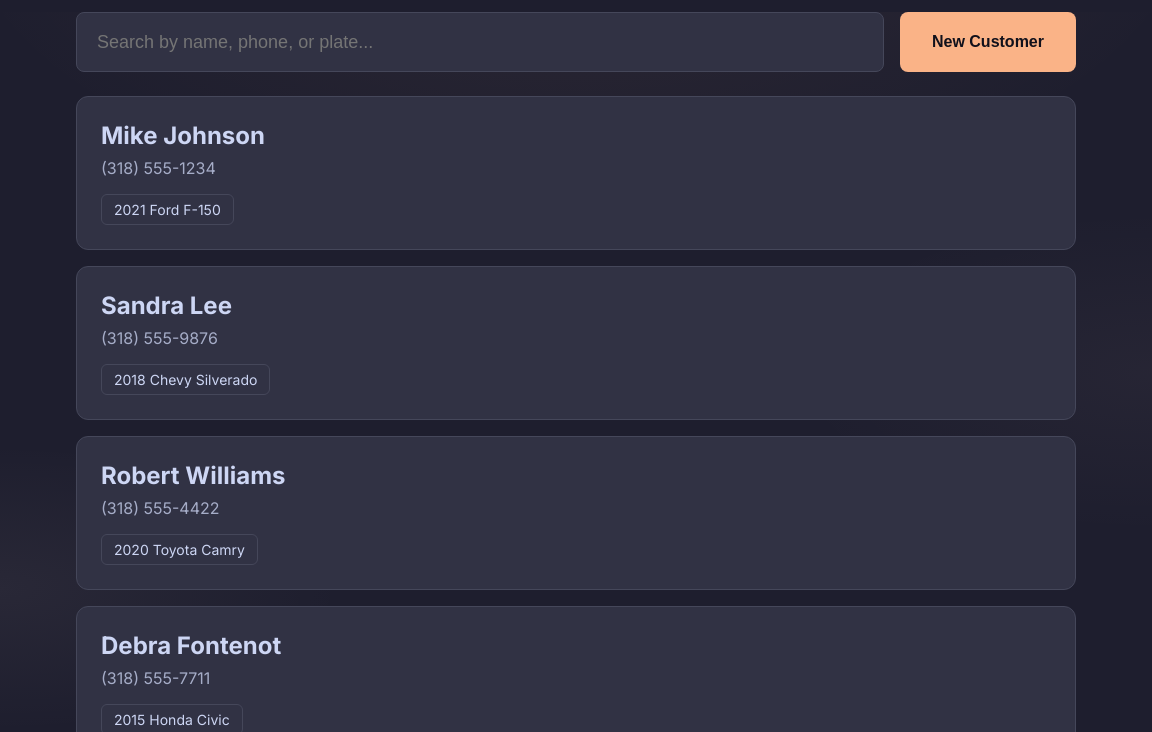
CheckInScreen › New Customer button opens the form
This screenshot has width=1152, height=732.
Click the button "New Customer": coordinates (988, 42) [900,12,1076,72]
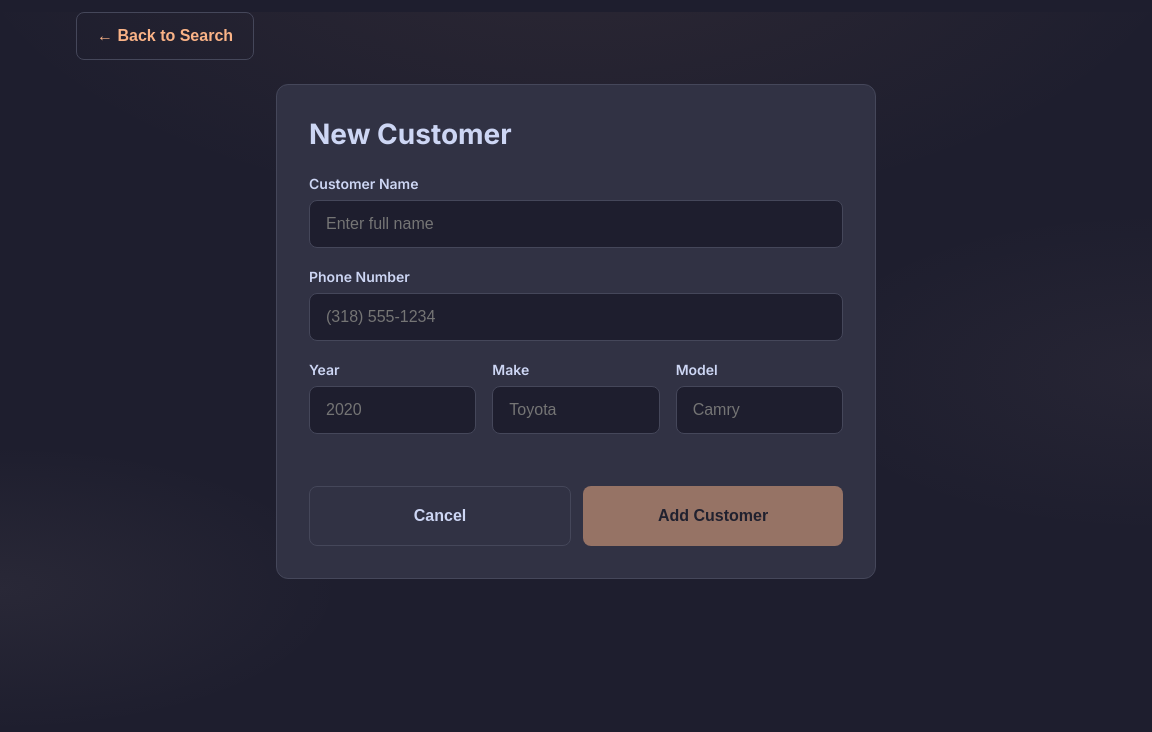
Result: the field with placeholder "Enter full name" is shown at [309,200,843,248]
Result: the field with placeholder "(318) 555-1234" is shown at [309,293,843,341]
Result: the field with placeholder "2020" is shown at [309,386,476,434]
